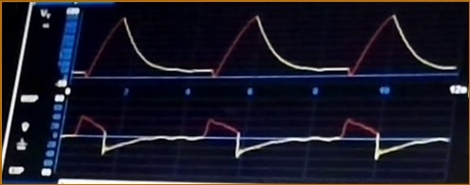Flow: (66, 103, 449, 173)
Leakage Volume: (77, 12, 458, 84)
